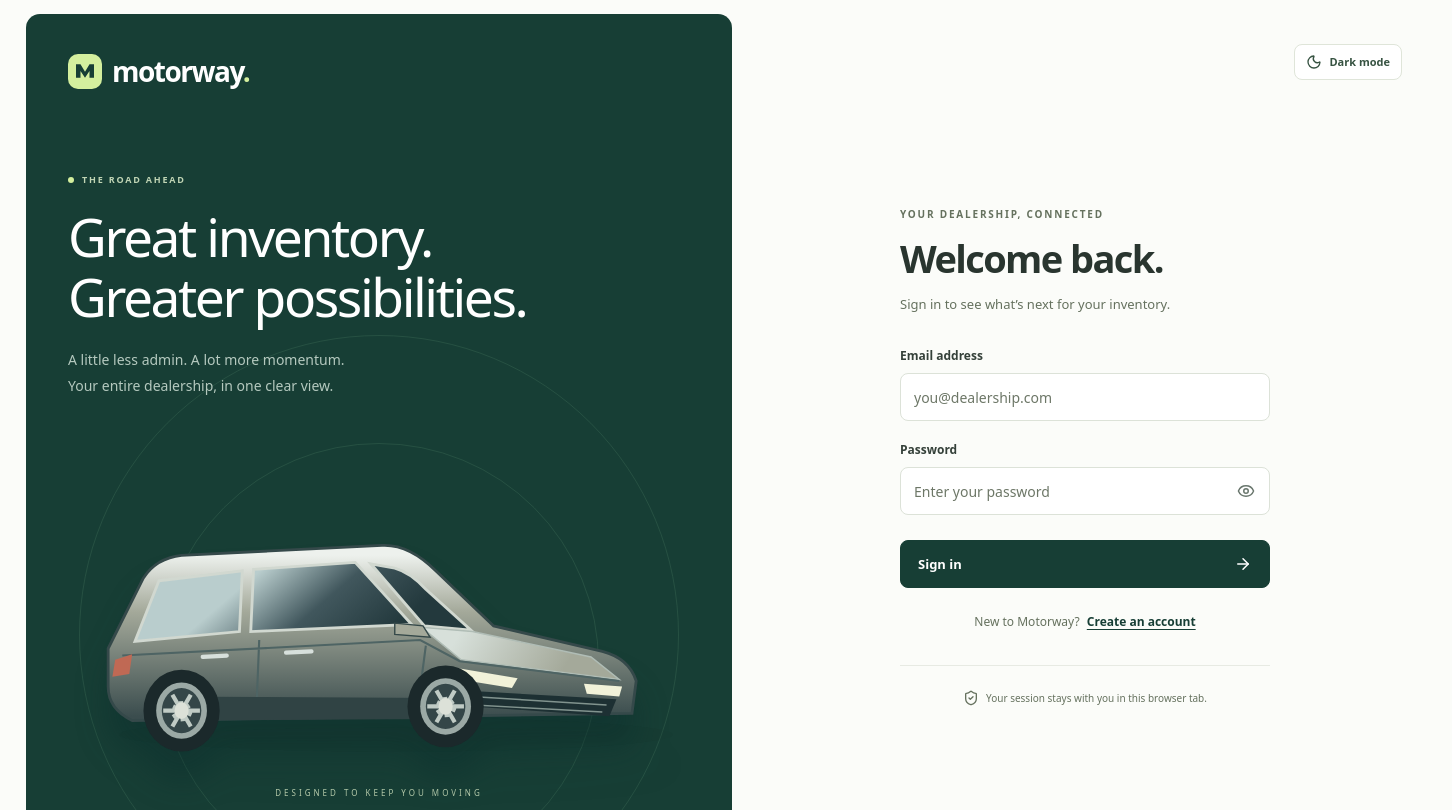
Scenario: authentication › registers without sending a role and returns to sign in
This screenshot has width=1452, height=810.
Click the button "Create an account" at (1141, 622), box 1087,614 -> 1196,632
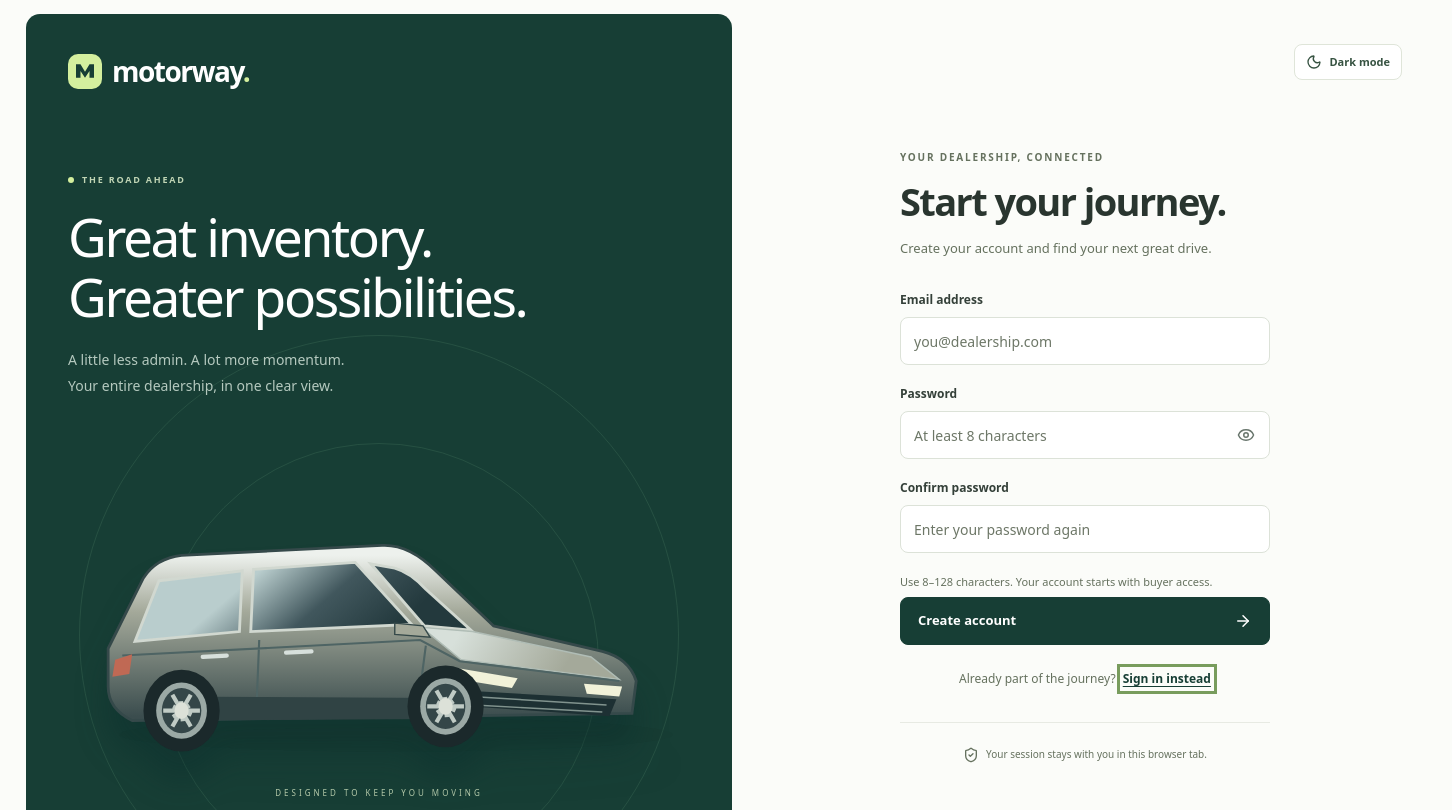
Type "new@example.com" into the field labelled "Email address" at (1085, 341), box 900,317 -> 1270,365
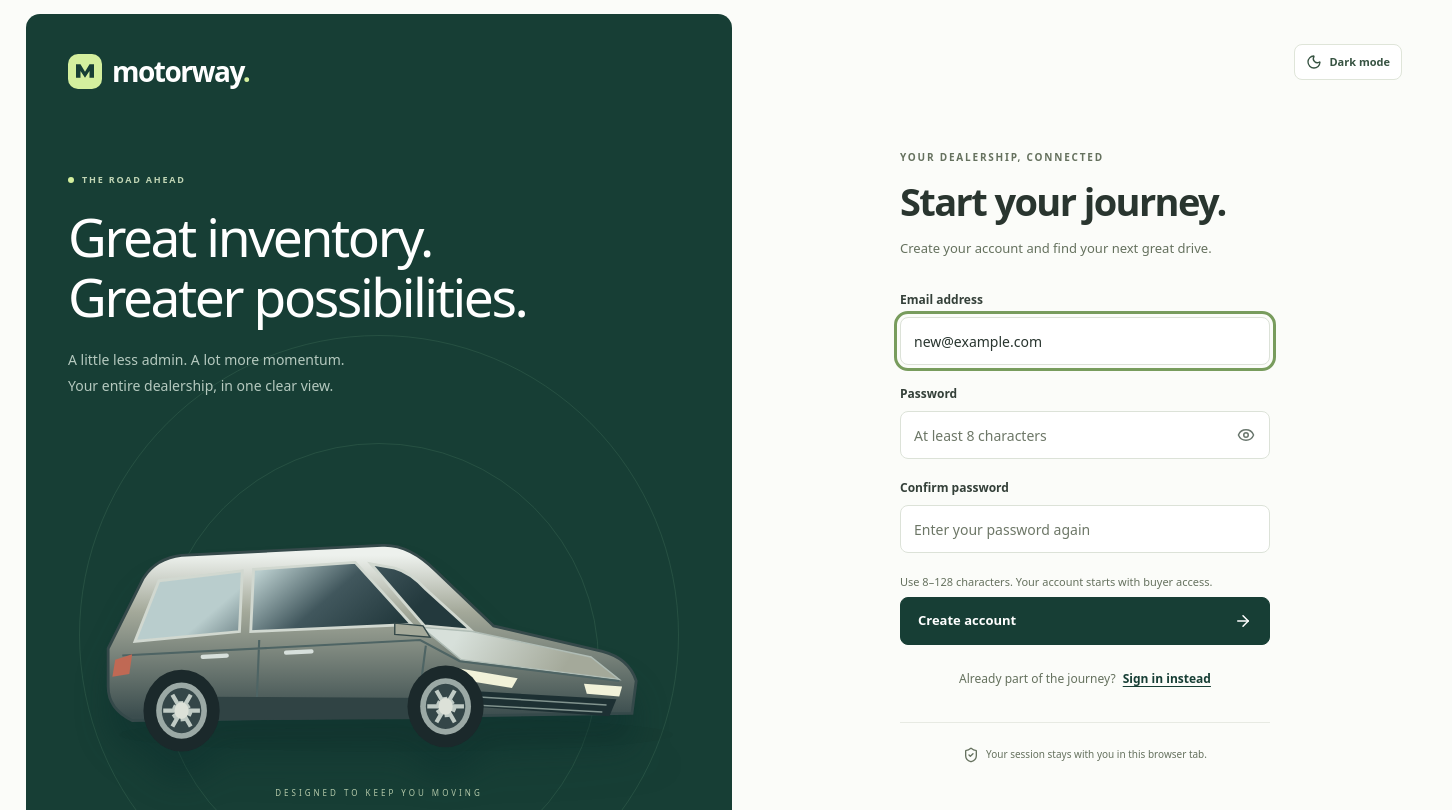
Type "password123" into the password field labelled "Password" at (1085, 435), box 900,411 -> 1270,459
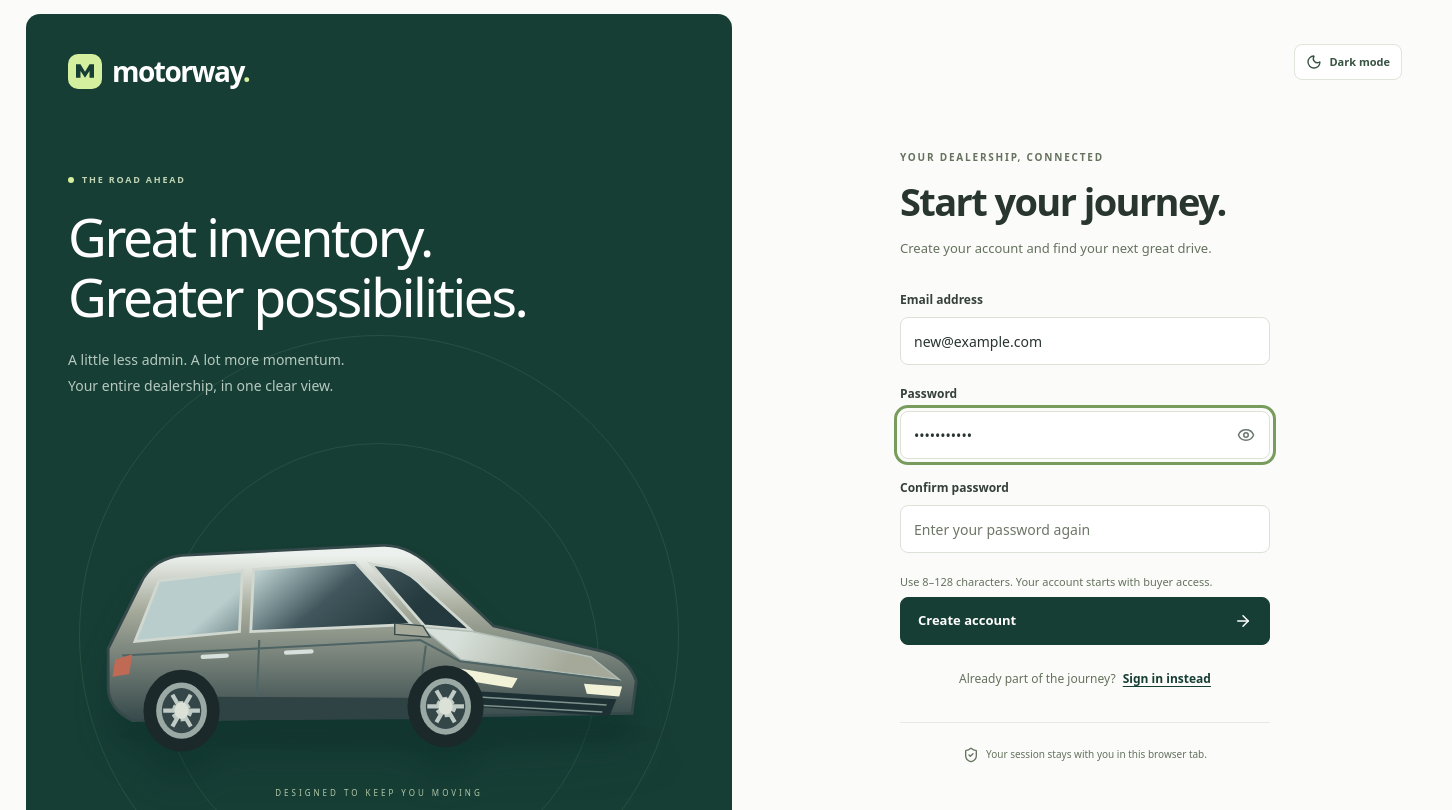
Type "password123" into the password field labelled "Confirm password" at (1085, 529), box 900,505 -> 1270,553
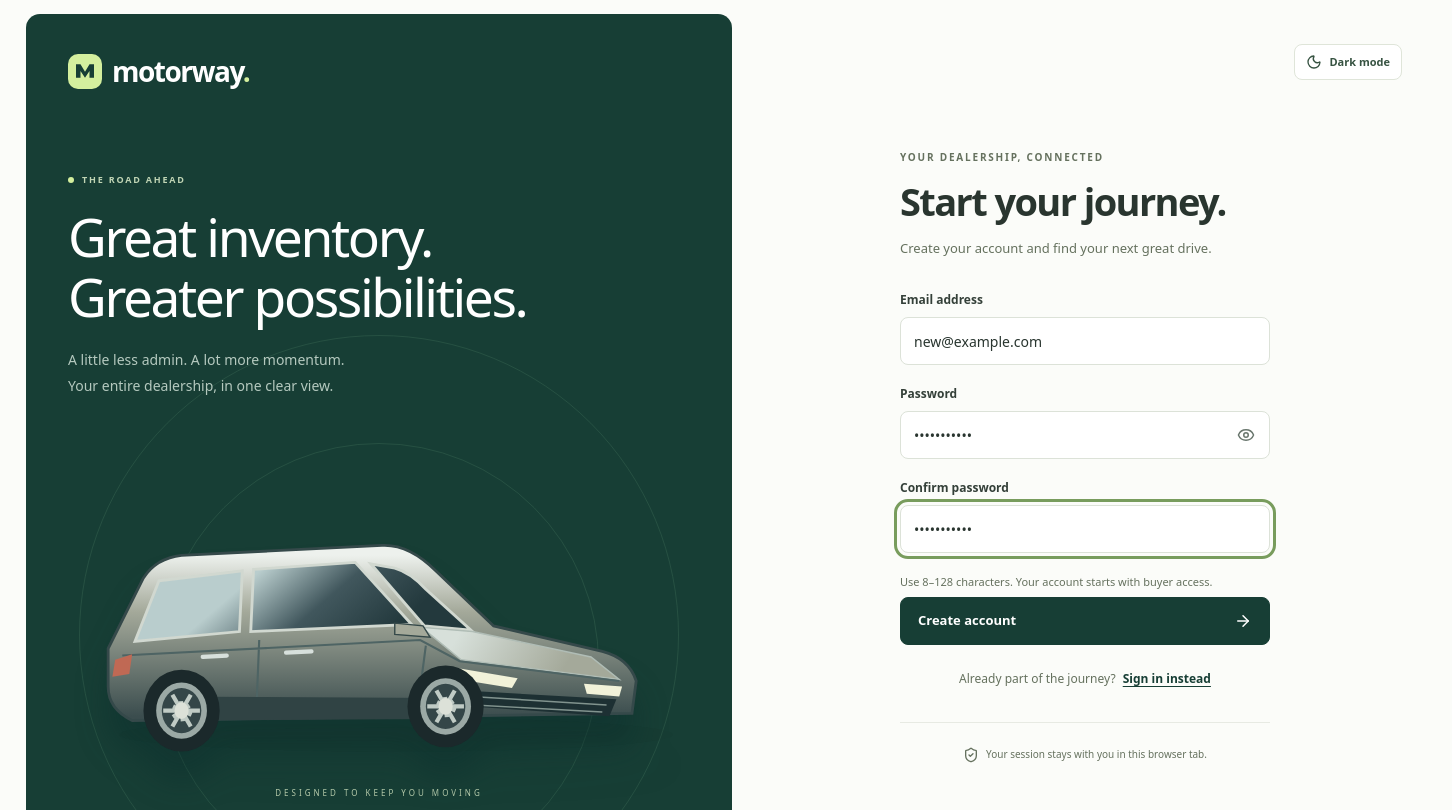
Click the button "Create account" at (967, 620), box 900,597 -> 1270,645
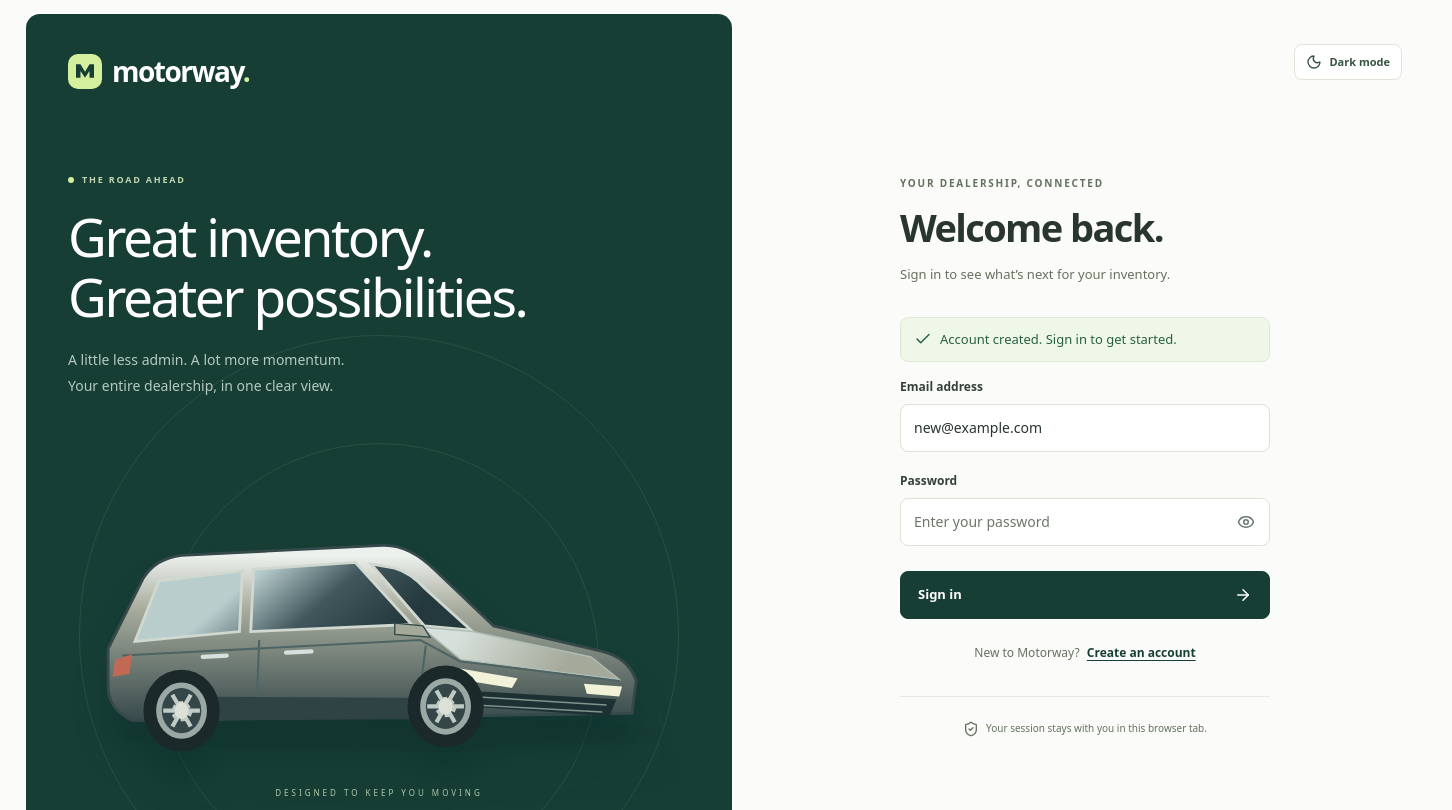
Expected: the text "Account created. Sign in to get started." is shown, 900,317 -> 1270,362
